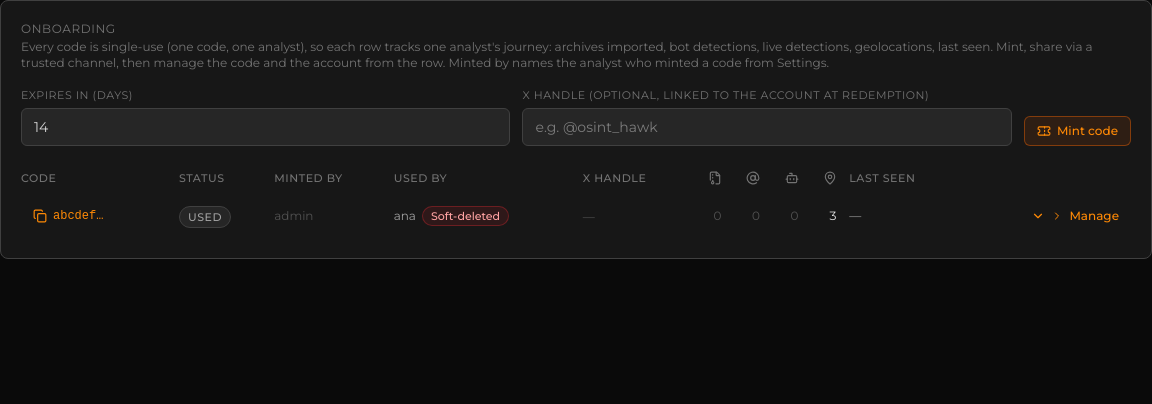
Test: <OnboardingPanel> › marks a soft-deleted account and offers only Restore and Hard delete
Click the button "Manage". click: (1075, 216)
box: [1019, 202, 1131, 230]
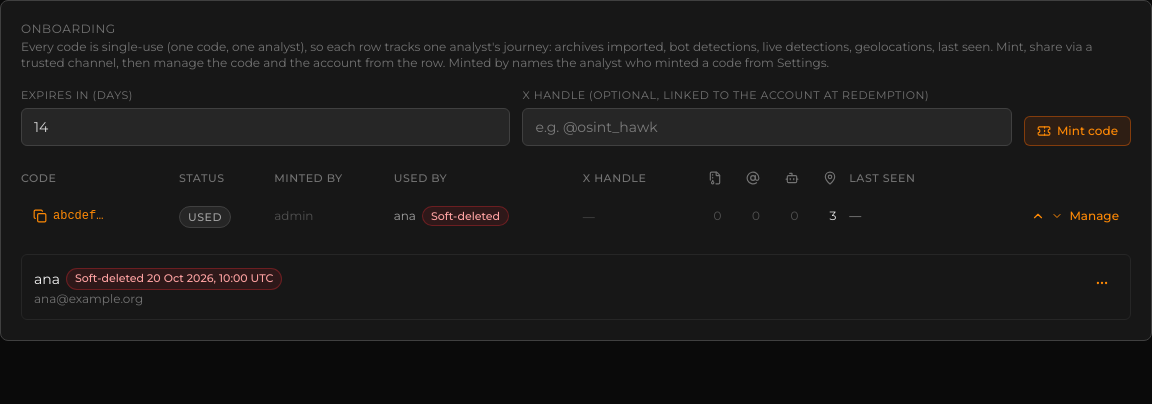
Click the button named "Actions for ana". click: (1102, 283)
box: [1086, 267, 1118, 299]
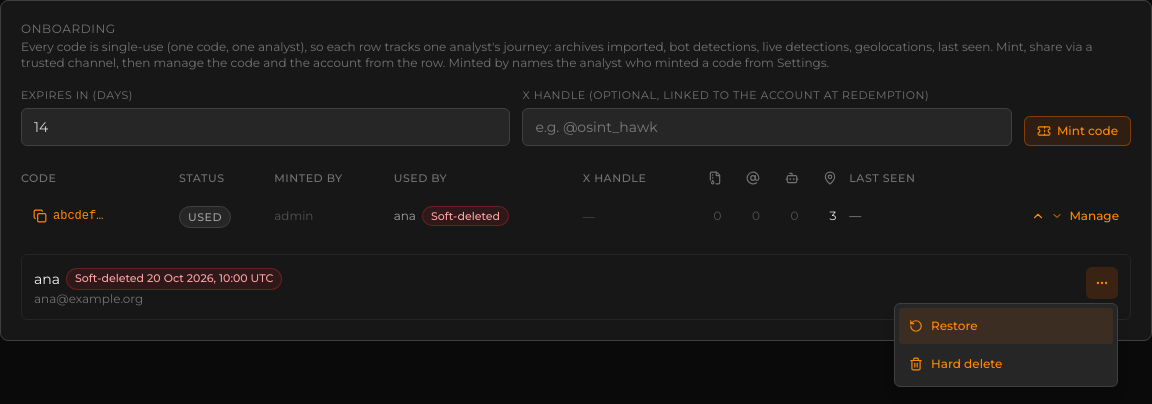
Check: the text "Soft-deleted" is shown, box [422, 206, 509, 226]
Check: the text "Soft-deleted 20 Oct 2026, 10:00 UTC" is shown, box [66, 268, 282, 290]
Check: the menu items read "Restore", "Hard delete", in this order, box [899, 308, 1113, 344]; [899, 346, 1113, 382]
